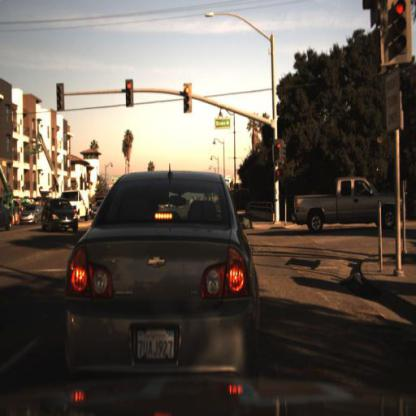car: (64, 170, 262, 392), (293, 177, 405, 239), (40, 197, 80, 237), (61, 185, 92, 221), (17, 202, 47, 228)
trafficLight: (184, 82, 194, 116), (56, 84, 65, 111)
trafficLight-Red: (383, 2, 414, 65), (388, 1, 406, 56), (274, 140, 285, 165), (126, 79, 135, 109), (277, 139, 282, 155)
truck: (66, 189, 95, 220)
